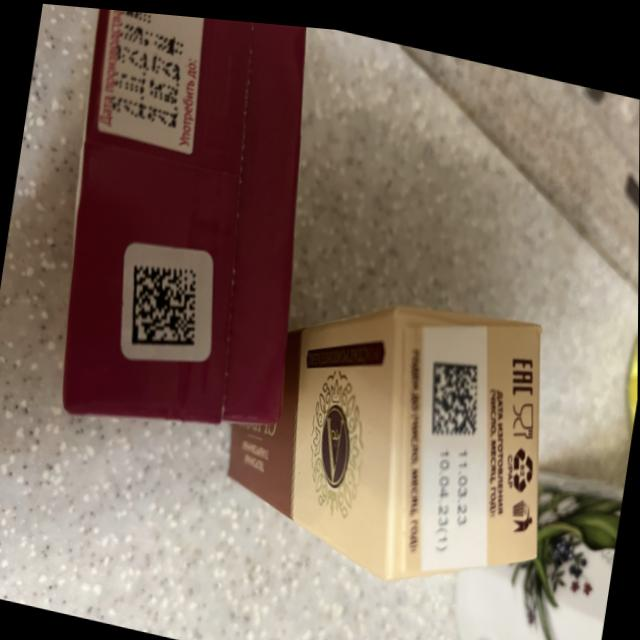datamatrix: (123, 252, 207, 357), (423, 345, 488, 437)
